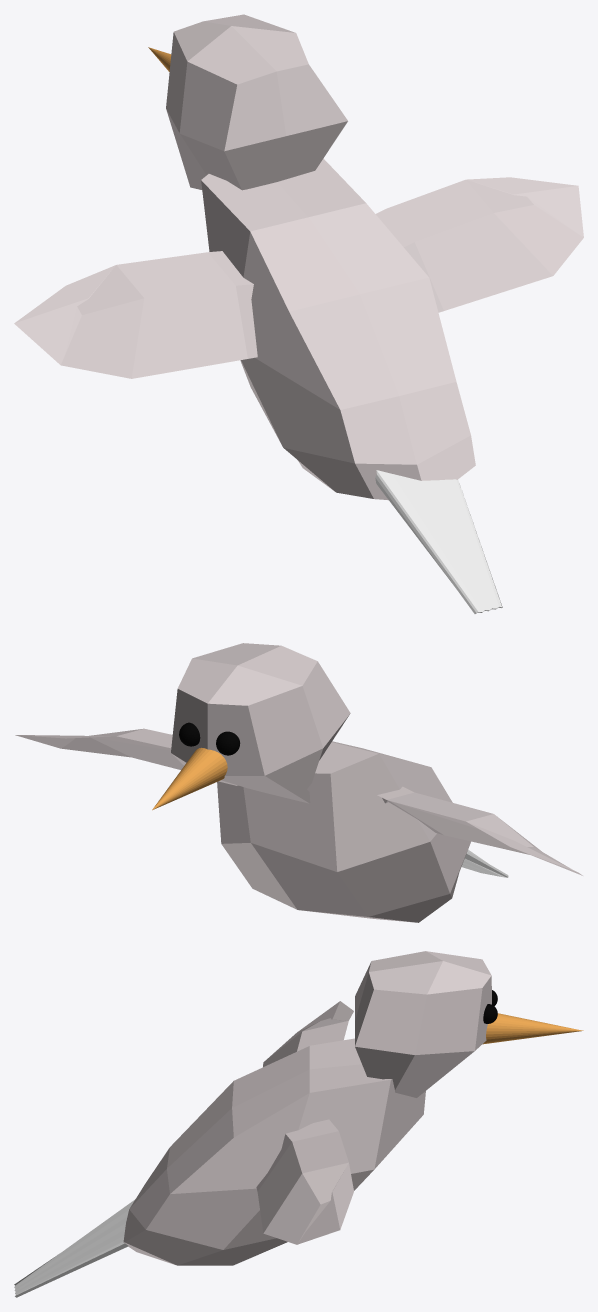
The model's file is  bird 2.glb.
The picture shows the model from 3 angles, top to bottom: view 1: azimuth 30°, elevation 25°; view 2: azimuth 150°, elevation 25°; view 3: azimuth 270°, elevation 25°; orthographic projection. The views are drawn at different scales.
Parts seen in each view (by area): view 1: Cube, Cube.002, Cube.001, Cube.003; view 2: Cube, Cube.001, Cube.002, Cone, Sphere, Cube.003; view 3: Cube, Cube.001, Cube.002, Cube.003, Cone.
Part boxes in pixels (x1=…): Cube: x1=201, y1=158, x2=475, y2=500; Cube.002: x1=14, y1=177, x2=583, y2=378; Cube.001: x1=166, y1=14, x2=347, y2=190; Cube.003: x1=375, y1=470, x2=502, y2=613; Cube: x1=217, y1=741, x2=470, y2=922; Cube.001: x1=171, y1=643, x2=350, y2=803; Cube.002: x1=15, y1=728, x2=582, y2=875; Cone: x1=152, y1=747, x2=227, y2=810; Sphere: x1=179, y1=722, x2=240, y2=755; Cube.003: x1=461, y1=849, x2=508, y2=877; Cube: x1=123, y1=1038, x2=425, y2=1265; Cube.001: x1=355, y1=951, x2=491, y2=1097; Cube.002: x1=256, y1=1001, x2=353, y2=1244; Cube.003: x1=14, y1=1199, x2=135, y2=1297; Cone: x1=483, y1=1013, x2=583, y2=1044.
Bounding box in the file's own units: 9.73 × 6.56 × 10.23.
